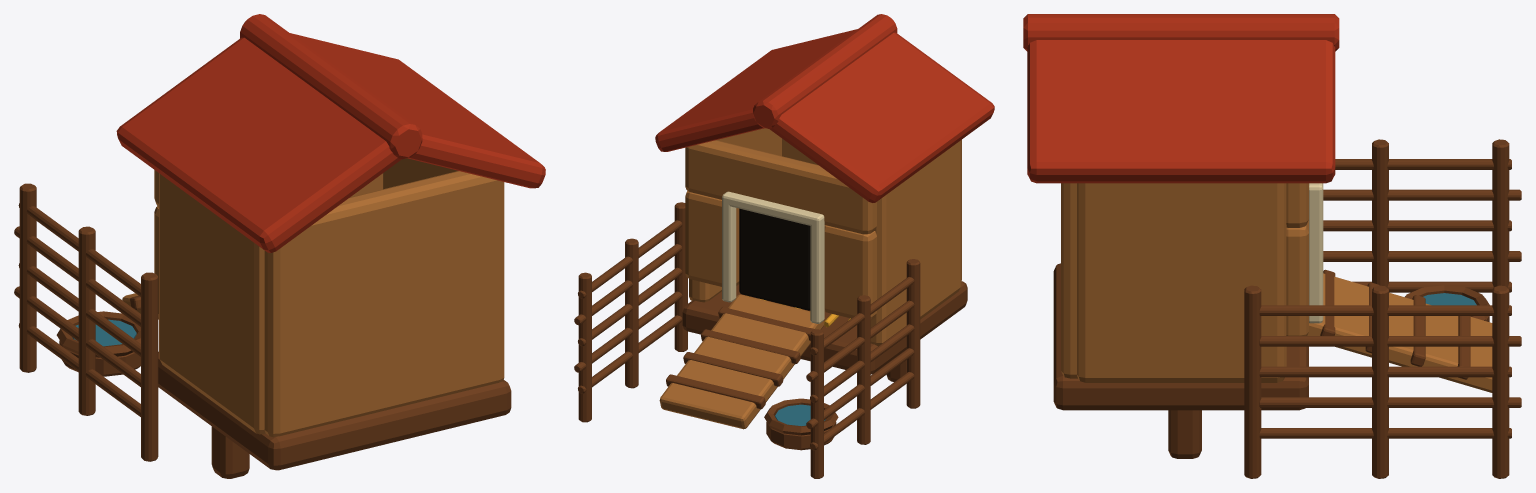
File: ChickenCoop.glb
3 views of the same model, side by side, from view 1: azimuth 30°, elevation 25°; view 2: azimuth 150°, elevation 25°; view 3: azimuth 270°, elevation 25° (orthographic). The views are drawn at different scales.
Parts seen in each view (by area): view 1: ChickenCoop_WoodLight, ChickenCoop_Roof, ChickenCoop_WoodDark, ChickenCoop_Bowl, ChickenCoop_Water; view 2: ChickenCoop_WoodLight, ChickenCoop_Roof, ChickenCoop_WoodDark, ChickenCoop_Entrance, ChickenCoop_Trim, ChickenCoop_Bowl, ChickenCoop_Water; view 3: ChickenCoop_Roof, ChickenCoop_WoodLight, ChickenCoop_WoodDark, ChickenCoop_Trim, ChickenCoop_Bowl, ChickenCoop_Water.
Boxes of the visible parts, <box> form: ChickenCoop_WoodLight: <box>122,158,504,437</box>; ChickenCoop_Roof: <box>116,14,545,252</box>; ChickenCoop_WoodDark: <box>14,183,511,478</box>; ChickenCoop_Bowl: <box>56,311,140,376</box>; ChickenCoop_Water: <box>72,319,136,346</box>; ChickenCoop_WoodLight: <box>659,128,961,429</box>; ChickenCoop_Roof: <box>655,14,994,202</box>; ChickenCoop_WoodDark: <box>574,202,967,478</box>; ChickenCoop_Entrance: <box>739,208,810,310</box>; ChickenCoop_Trim: <box>722,191,824,323</box>; ChickenCoop_Bowl: <box>764,398,838,450</box>; ChickenCoop_Water: <box>775,404,825,426</box>; ChickenCoop_Roof: <box>1023,14,1339,183</box>; ChickenCoop_WoodLight: <box>1061,183,1492,392</box>; ChickenCoop_WoodDark: <box>1053,139,1521,478</box>; ChickenCoop_Trim: <box>1309,183,1323,323</box>; ChickenCoop_Bowl: <box>1405,285,1489,321</box>; ChickenCoop_Water: <box>1423,293,1476,305</box>.
Size of the model in its own units: 0.9665 by 1.15 by 1.32.
